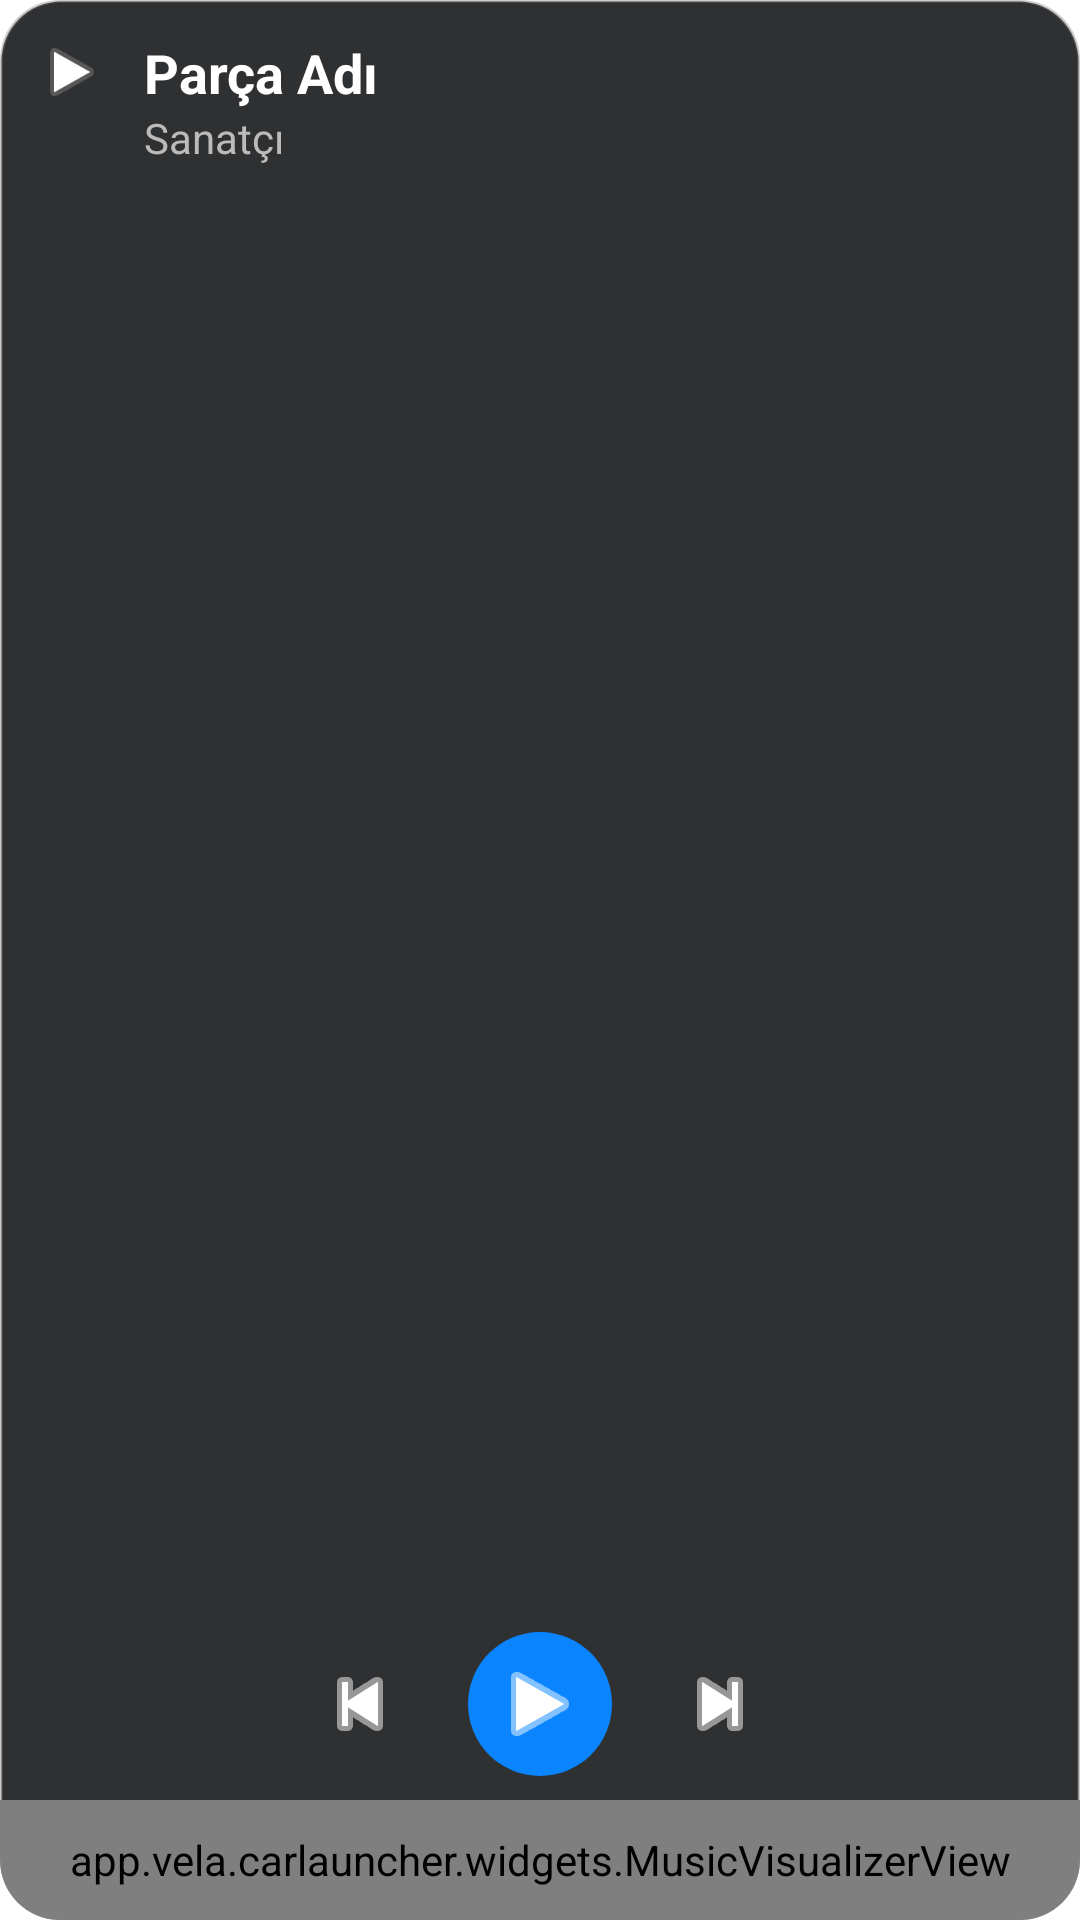

Icon bounding boxes for this 1080*1920 phone screenshot, format (x1, y1, x2, y2):
next: (697, 1677, 743, 1731)
play: (50, 48, 94, 96), (468, 1632, 612, 1776)
previous: (337, 1677, 383, 1731)
